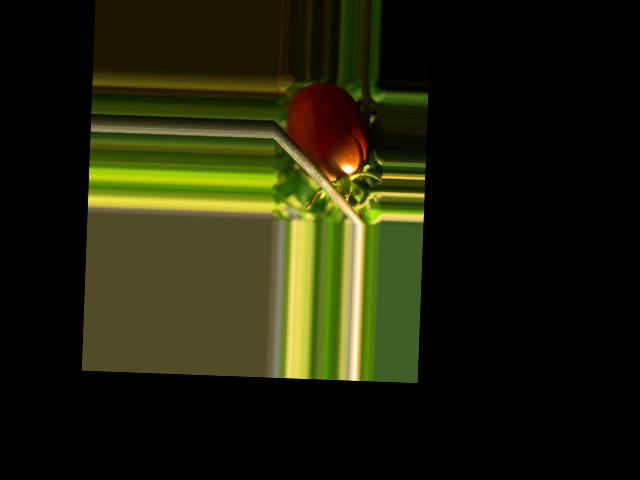tomato: (285, 82, 369, 182)
